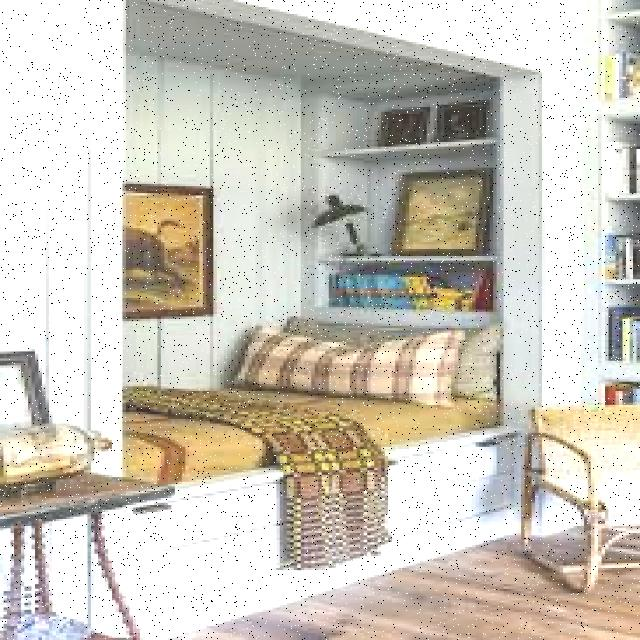bed: (27, 305, 512, 508)
